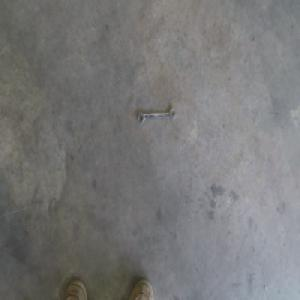Wrench: (135, 108, 176, 127)
